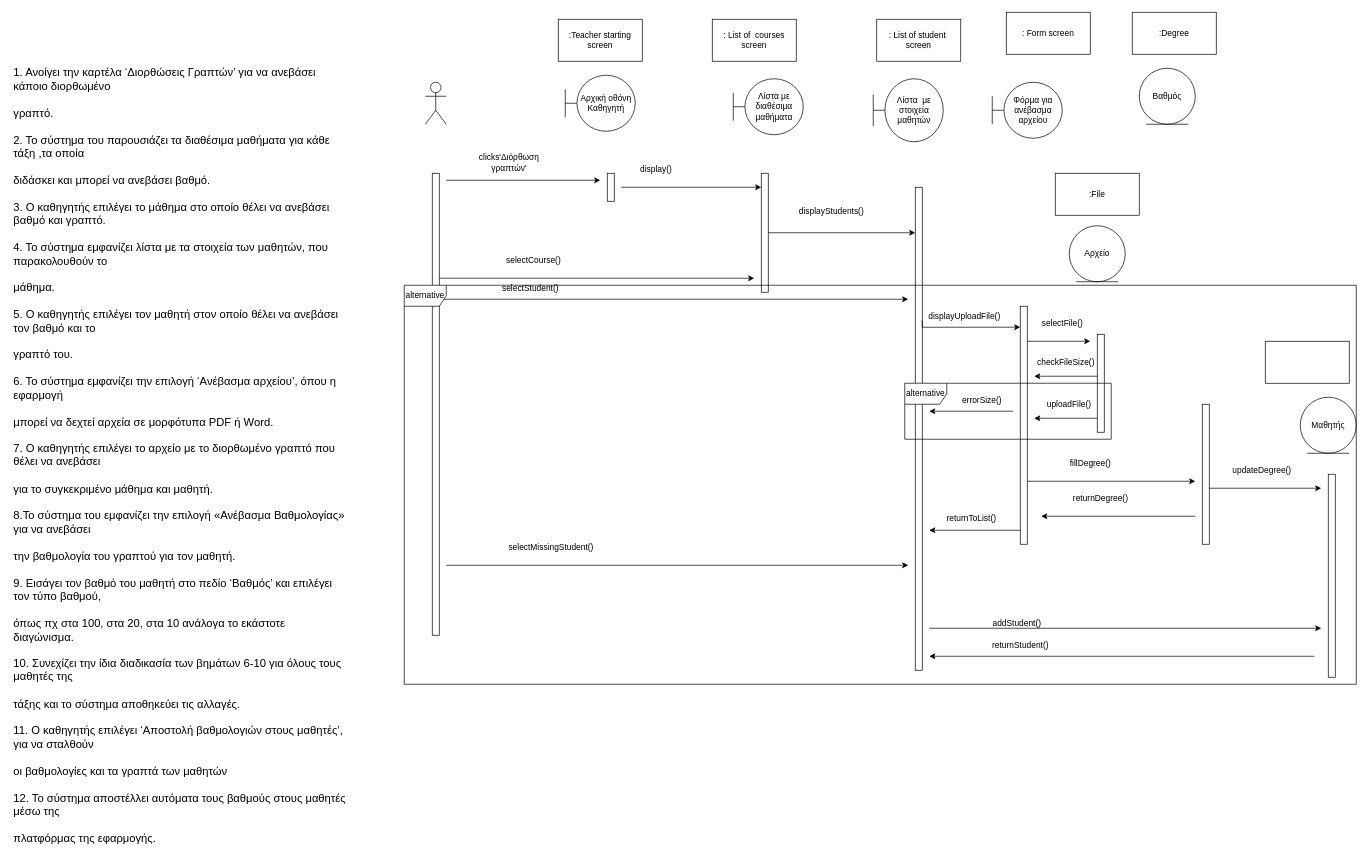
Image size: 1369x858. Some labels were removed from this diagram. The shapes that lost their labels are listed below. From the top down, each one's centre as x and y in pixels, then its label:
At (x=435, y=103): "Teacher".
At (x=1307, y=362): ":Student".
